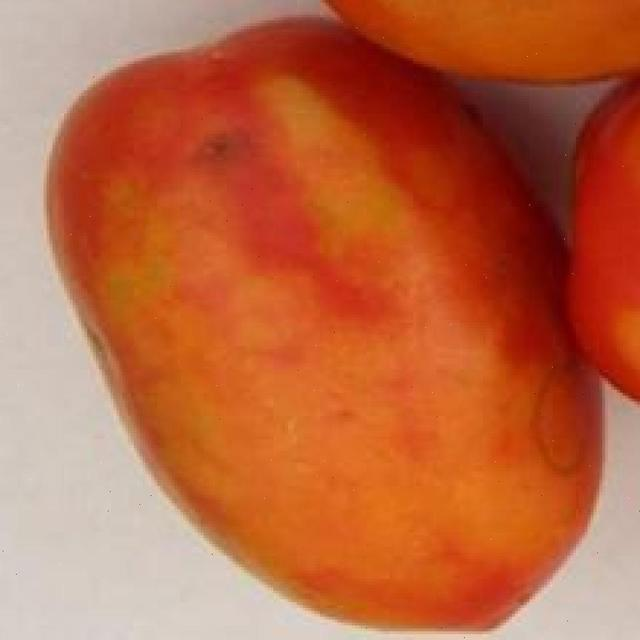Spotted wilt Virus Fruit: (29, 8, 404, 422)
